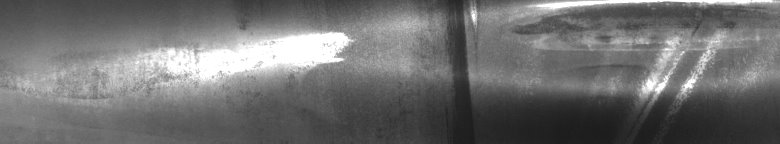ke: (459, 4, 764, 112)
